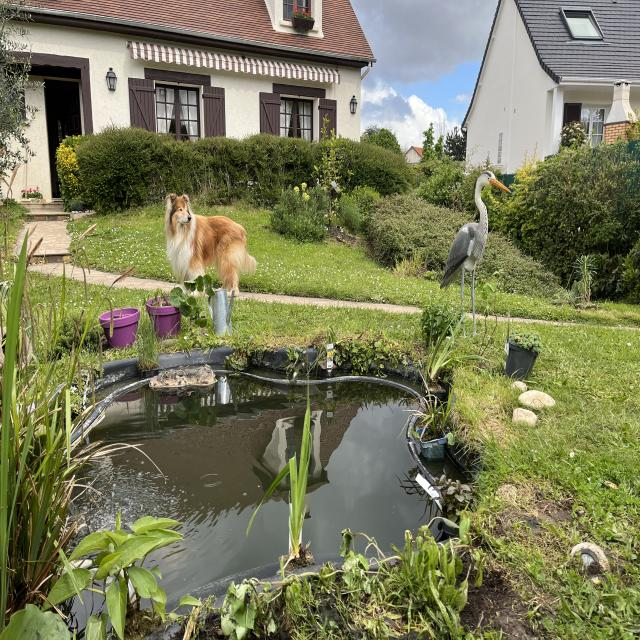Dog: (156, 185, 260, 309)
Heron: (430, 157, 510, 348)
